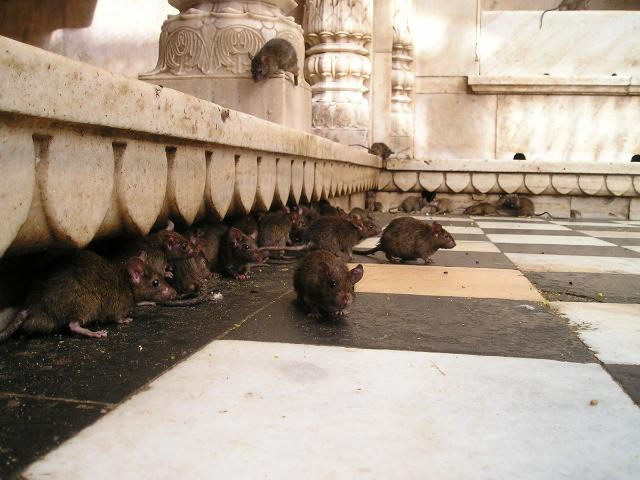rat: (18, 241, 184, 340), (141, 221, 221, 312), (287, 247, 371, 327), (377, 212, 461, 268), (284, 207, 384, 251), (212, 221, 272, 285)
